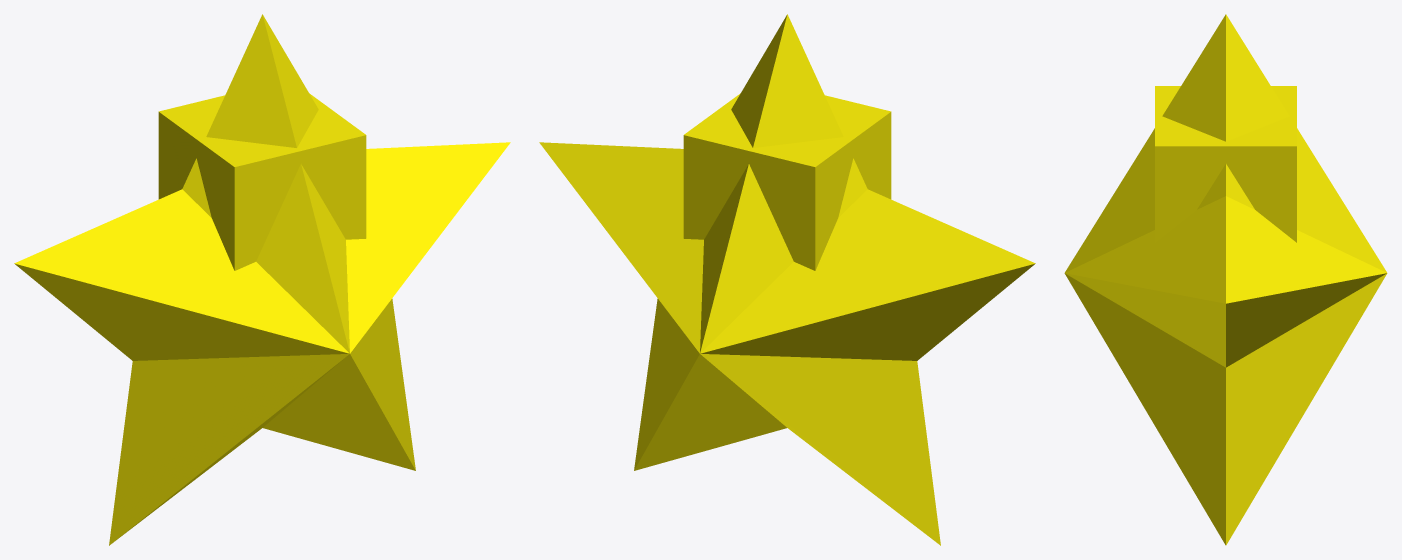
The model's file is star.FBX.
3 renders of one model, left to right at view 1: azimuth 30°, elevation 25°; view 2: azimuth 150°, elevation 25°; view 3: azimuth 270°, elevation 25°, orthographic. The views are drawn at different scales.
Visible parts, largest first — view 1: star; view 2: star; view 3: star.
Boxes of the visible parts, x1=… form: star: x1=14, y1=14, x2=510, y2=545; star: x1=539, y1=14, x2=1035, y2=545; star: x1=1064, y1=14, x2=1387, y2=545.
Bounding box in the file's own units: 3.77 × 2.27 × 3.58.
1 material, 1 textured.
